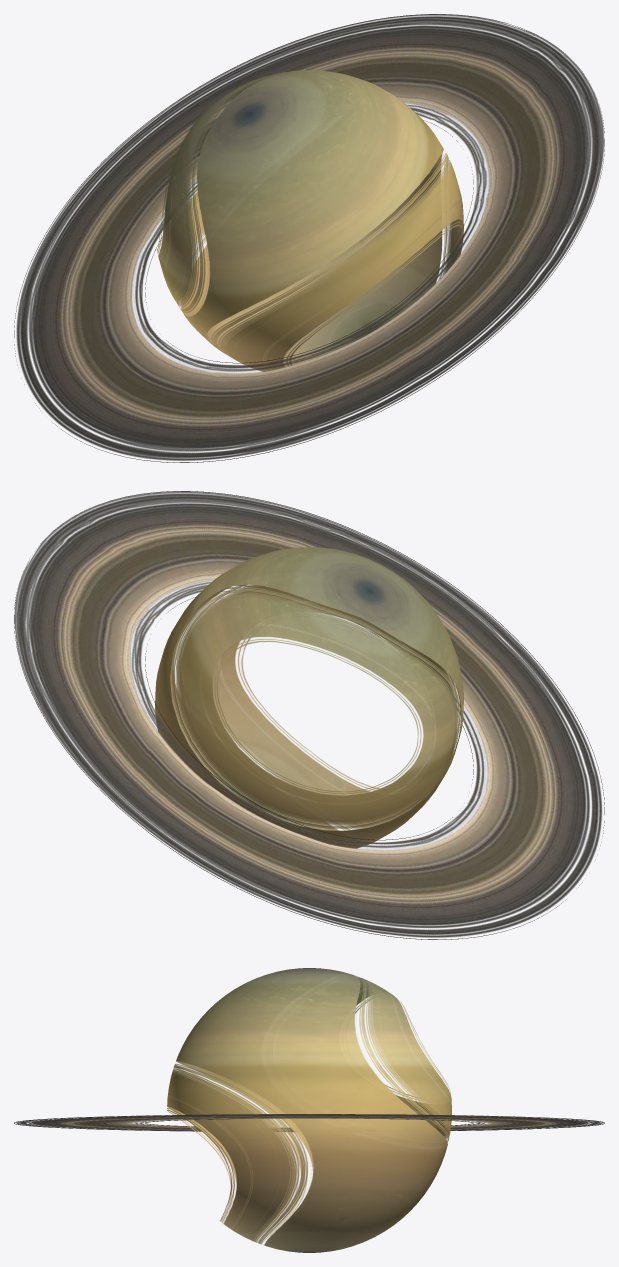
File: AdobeStock_360348839_saturn.glb
3 views of the same model, one above another, from view 1: azimuth 30°, elevation 25°; view 2: azimuth 150°, elevation 25°; view 3: azimuth 270°, elevation 25° (orthographic). The views are drawn at different scales.
Visible parts, largest first — view 1: saturn_rings_GEO, saturn_GEO; view 2: saturn_rings_GEO, saturn_GEO; view 3: saturn_GEO, saturn_rings_GEO.
Part boxes in pixels (x1=…): saturn_rings_GEO: x1=14, y1=14, x2=604, y2=462; saturn_GEO: x1=157, y1=70, x2=463, y2=371; saturn_rings_GEO: x1=14, y1=491, x2=604, y2=939; saturn_GEO: x1=155, y1=547, x2=463, y2=848; saturn_GEO: x1=167, y1=968, x2=451, y2=1252; saturn_rings_GEO: x1=14, y1=1114, x2=604, y2=1132.
Bounding box in the file's own units: 30.26 × 16.59 × 33.86.
2 materials, 2 textured.
